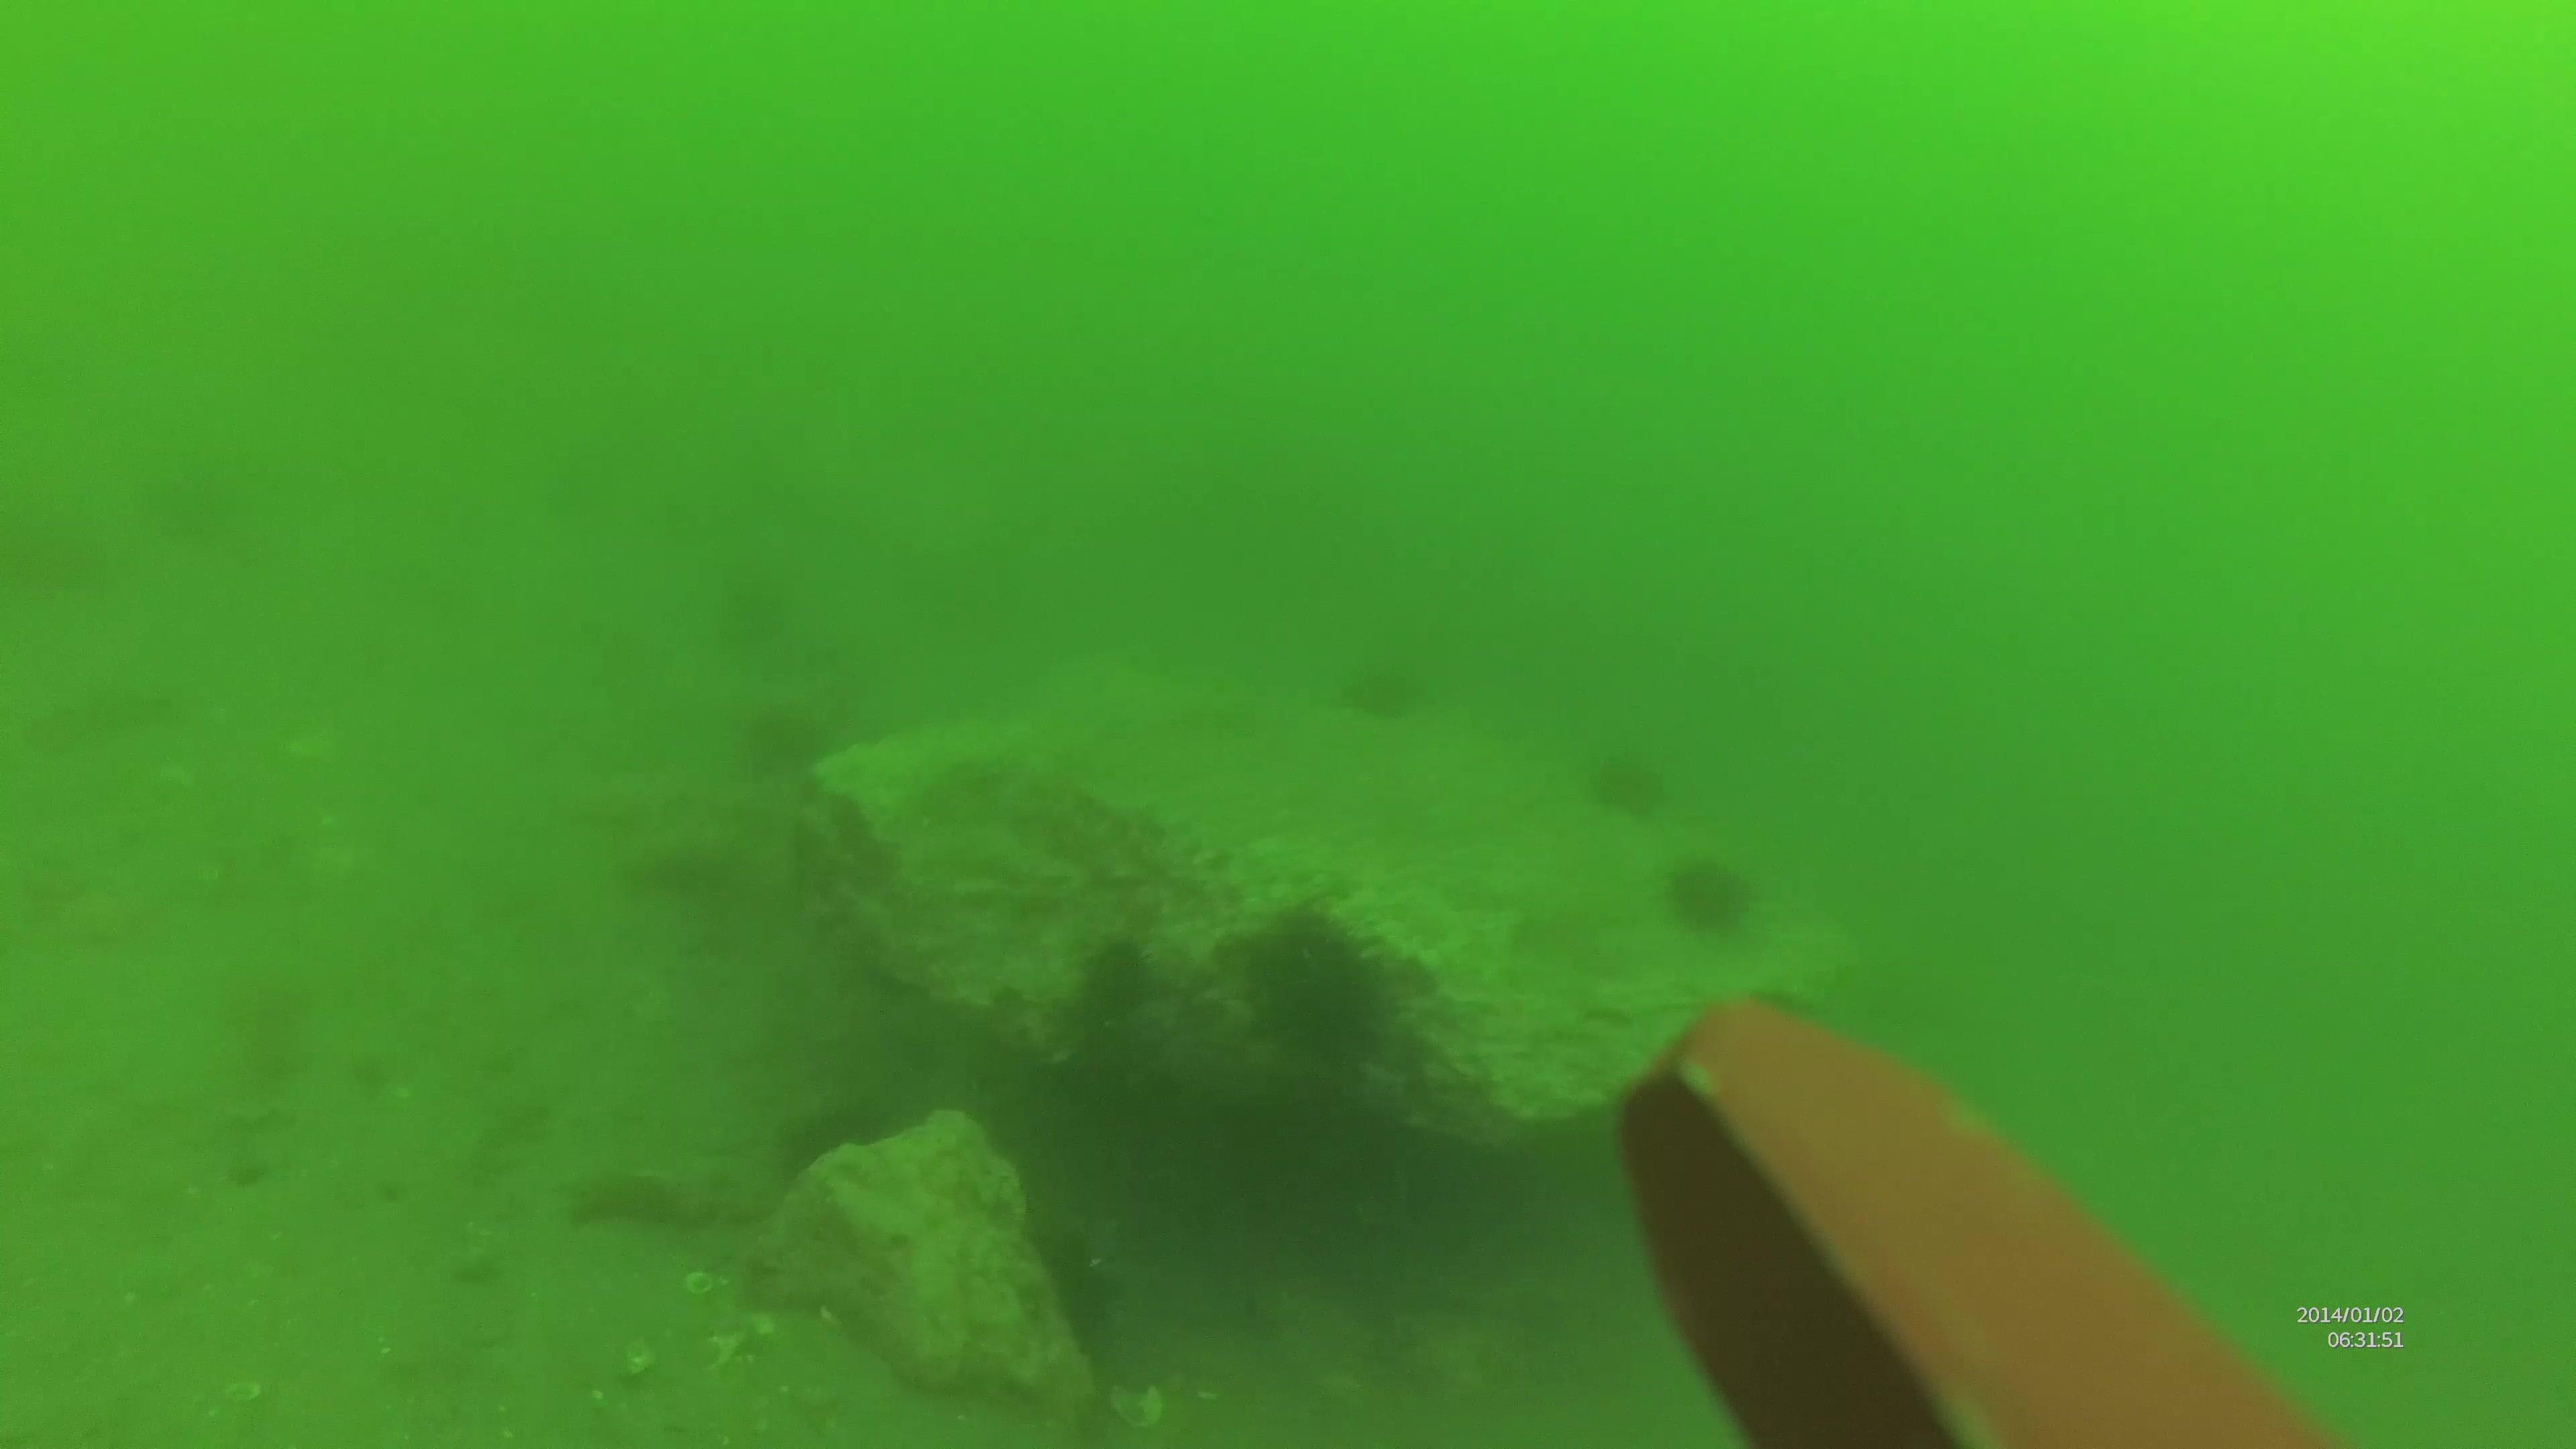echinus: (1233, 908, 1407, 1065), (1000, 1221, 1123, 1339), (777, 1102, 892, 1200), (1663, 855, 1757, 931), (1585, 757, 1663, 839)
